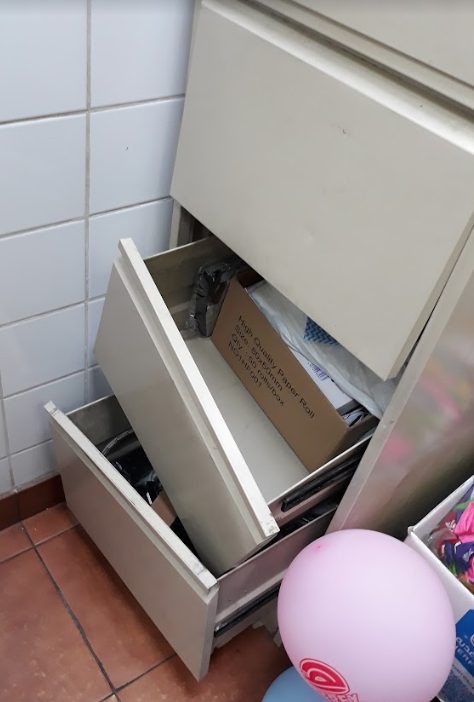Aluminum Shelves: (37, 2, 467, 696)
